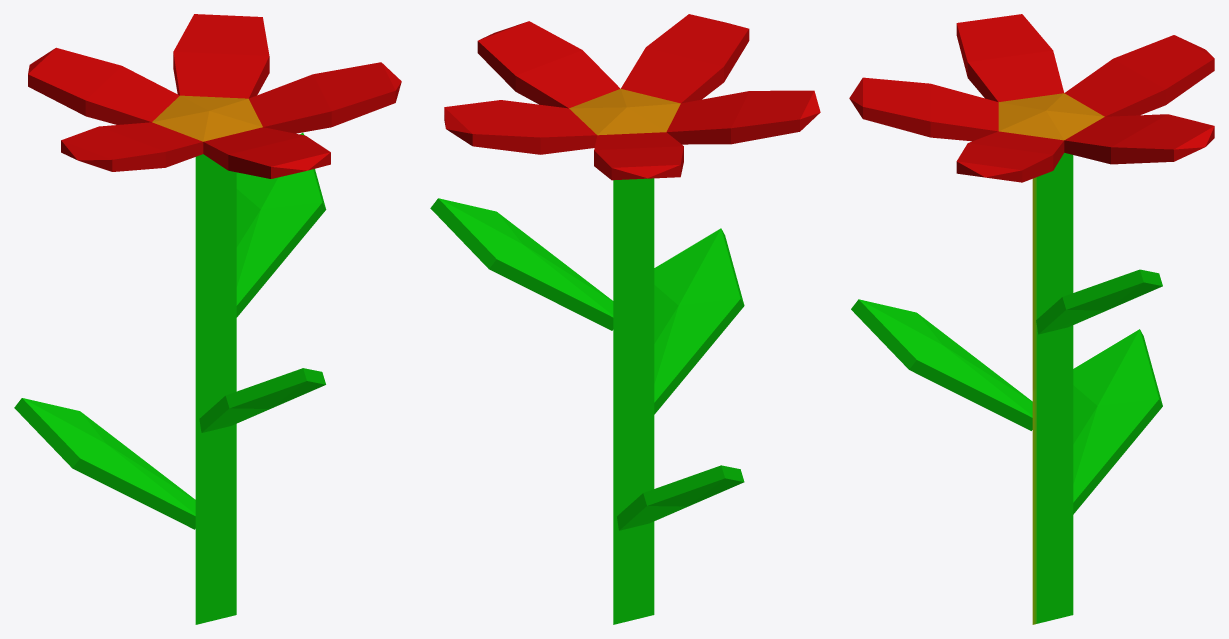
File: flower.fbx
The picture shows the model from 3 angles, left to right: view 1: azimuth 30°, elevation 25°; view 2: azimuth 150°, elevation 25°; view 3: azimuth 270°, elevation 25°; orthographic projection.
Parts seen in each view (by area): view 1: Sphere; view 2: Sphere; view 3: Sphere.
Boxes of the visible parts, x1=… form: Sphere: x1=14, y1=14, x2=401, y2=624; Sphere: x1=430, y1=14, x2=820, y2=624; Sphere: x1=849, y1=14, x2=1214, y2=624.
Size of the model in its own units: 2.76 by 4.25 by 2.69.
1 material, 1 textured.
